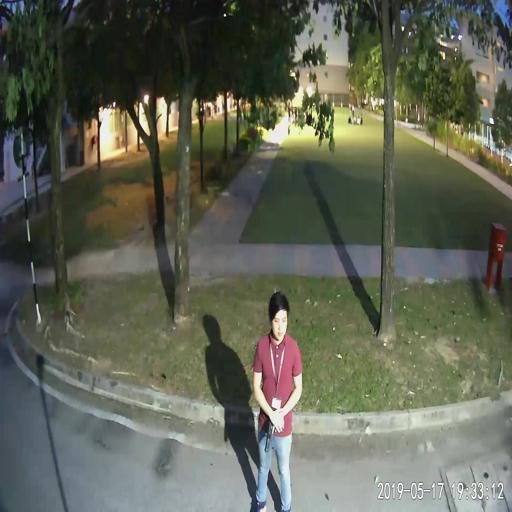Handgun: (263, 414, 281, 452)
